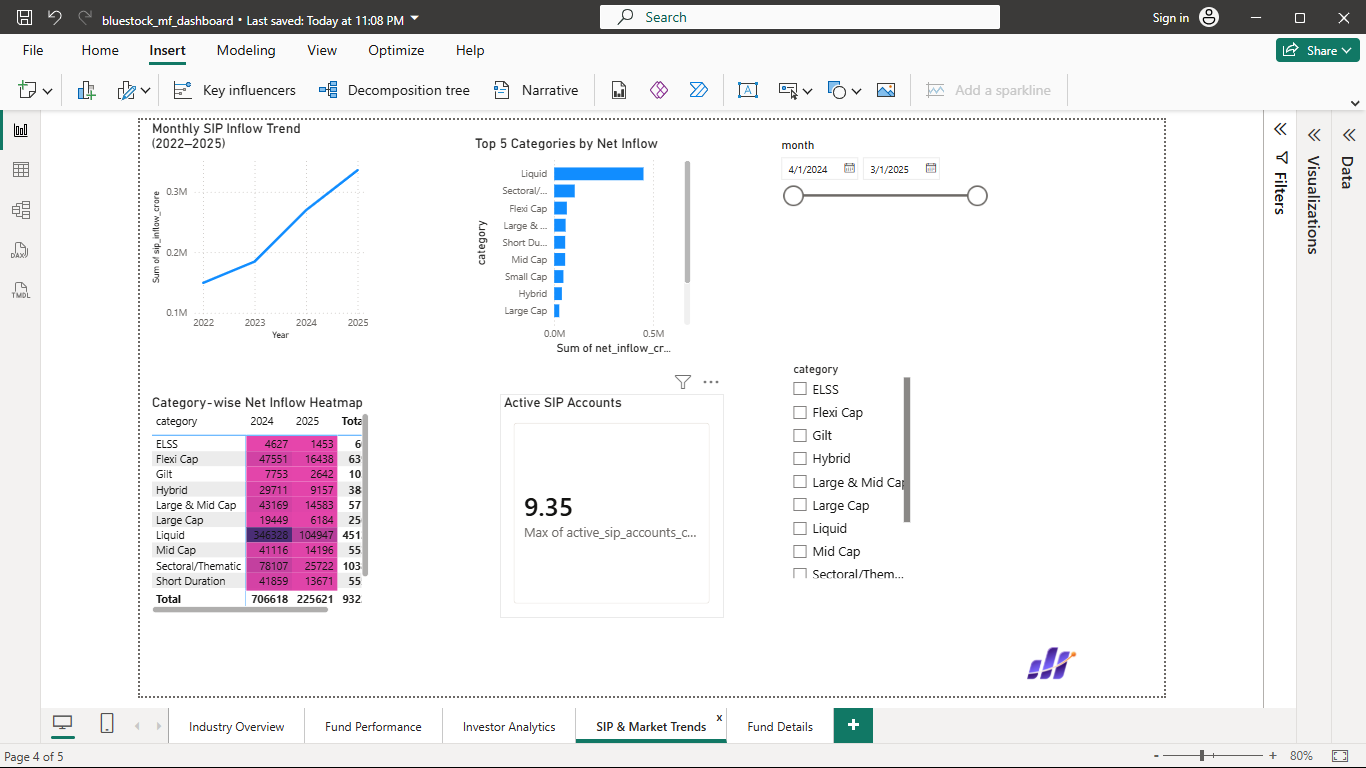

The dashboard page shown, as its layout file describes it:
{"tool":"powerbi","page":{"name":"SIP & Market Trends","canvas":[1280,720],"ordinal":3},"visuals":[{"type":"lineChart","title":"Monthly SIP Inflow Trend (2022–2025)","fields":{"Category":["04_monthly_sip_inflows.month.Variation.Date Hierarchy.Year","04_monthly_sip_inflows.month.Variation.Date Hierarchy.Quarter","04_monthly_sip_inflows.month.Variation.Date Hierarchy.Month","04_monthly_sip_inflows.month.Variation.Date Hierarchy.Day"],"Y":["Sum(04_monthly_sip_inflows.sip_inflow_crore)"]},"box":[10,0,280,280],"z":0},{"type":"pivotTable","title":"Category-wise Net Inflow Heatmap","fields":{"Values":["Sum(05_category_inflows.net_inflow_crore)"],"Columns":["05_category_inflows.month.Variation.Date Hierarchy.Year","05_category_inflows.month.Variation.Date Hierarchy.Quarter","05_category_inflows.month.Variation.Date Hierarchy.Month","05_category_inflows.month.Variation.Date Hierarchy.Day"],"Rows":["05_category_inflows.category"]},"box":[9.6,342.7,280.8,279.4],"z":1000},{"type":"clusteredBarChart","title":"Top 5 Categories by Net Inflow","fields":{"Y":["Sum(05_category_inflows.net_inflow_crore)"],"Category":["05_category_inflows.category"]},"box":[414.3,19.3,279.4,279.4],"z":2000},{"type":"cardVisual","title":"Active SIP Accounts","fields":{"Data":["Max(04_monthly_sip_inflows.active_sip_accounts_crore)"]},"box":[450.1,342.7,279.4,279.4],"z":3000},{"type":"slicer","fields":{"Values":["05_category_inflows.month"]},"box":[788.6,19.3,279.4,161],"z":4000},{"type":"slicer","fields":{"Values":["05_category_inflows.category"]},"box":[803.8,298.7,163.8,279.4],"z":5000},{"type":"image","box":[999.2,638.6,280.8,81.2],"z":5001}]}

Visuals, with their boxes on the page's 1280x720 design canvas (x1, y1, x2, y2). These are canvas units, not pixel positions in the 1366x768 screenshot, which may show the page scaled, cropped or inside an application window:
"Monthly SIP Inflow Trend (2022–2025)" lineChart: [x1=10, y1=0, x2=290, y2=280]
"Category-wise Net Inflow Heatmap" pivotTable: [x1=10, y1=343, x2=290, y2=622]
"Top 5 Categories by Net Inflow" clusteredBarChart: [x1=414, y1=19, x2=694, y2=299]
"Active SIP Accounts" cardVisual: [x1=450, y1=343, x2=730, y2=622]
slicer - 05_category_inflows.month: [x1=789, y1=19, x2=1068, y2=180]
slicer - 05_category_inflows.category: [x1=804, y1=299, x2=968, y2=578]
image: [x1=999, y1=639, x2=1280, y2=720]
